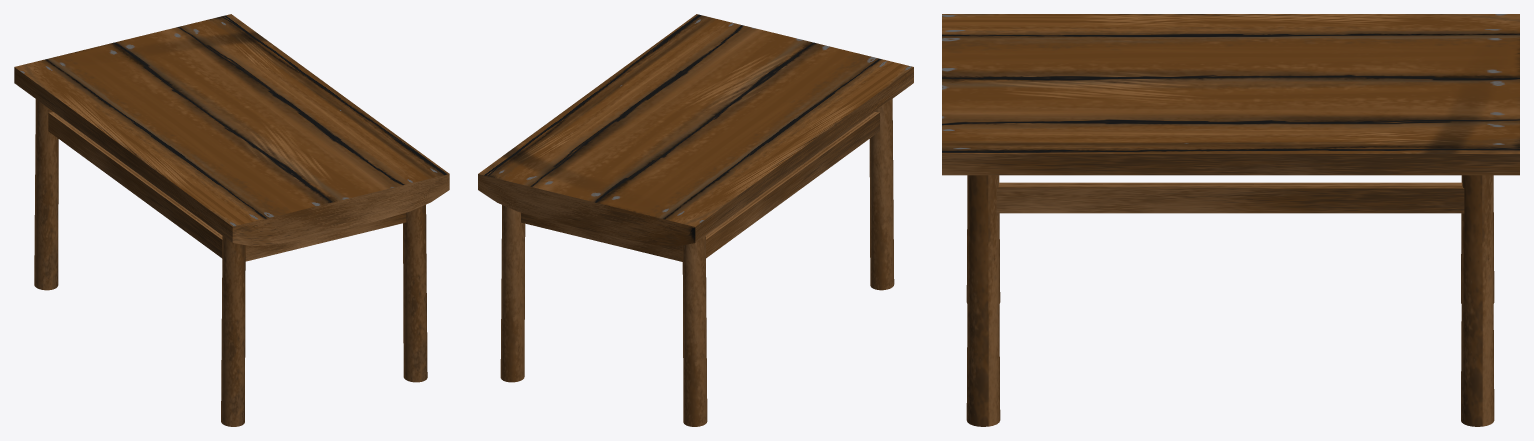
The model's file is dining_table.fbx.
The picture shows the model from 3 angles, left to right: view 1: azimuth 30°, elevation 25°; view 2: azimuth 150°, elevation 25°; view 3: azimuth 270°, elevation 25°; orthographic projection. The views are drawn at different scales.
Parts seen in each view (by area): view 1: pCube7; view 2: pCube7; view 3: pCube7.
Part boxes in pixels (bbox=[...]): pCube7: bbox=[14, 14, 449, 426]; pCube7: bbox=[478, 14, 913, 426]; pCube7: bbox=[942, 14, 1519, 426].
Bounding box in the file's own units: 5.7 × 5.27 × 9.93.
1 material, 1 textured.
